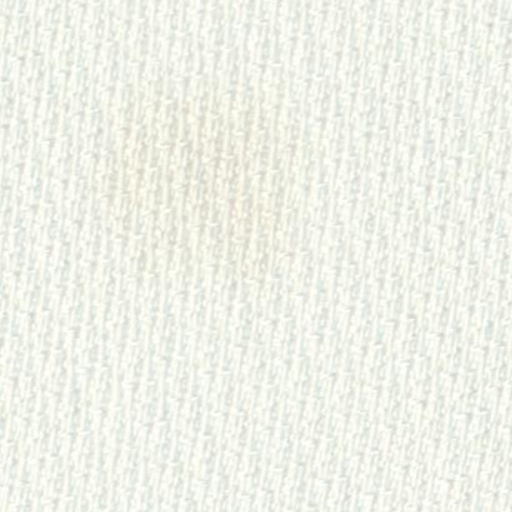WuZi: (80, 54, 342, 310)
